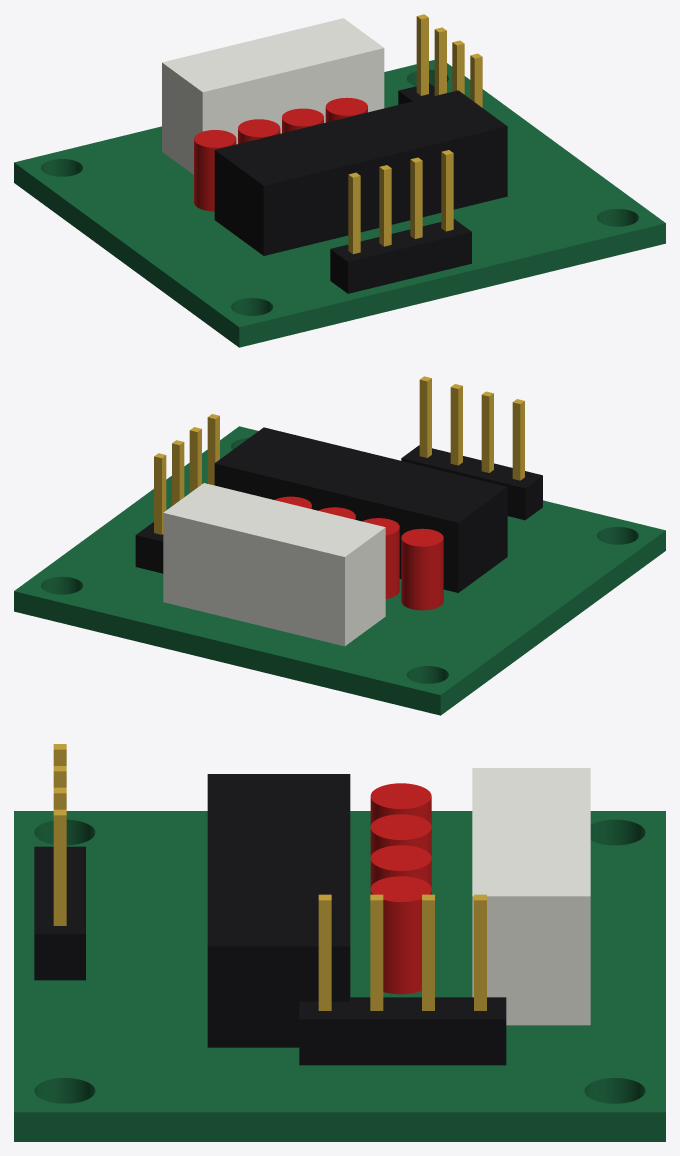
The model's file is driver_uln2003.glb.
The picture shows the model from 3 angles, top to bottom: view 1: azimuth 30°, elevation 25°; view 2: azimuth 150°, elevation 25°; view 3: azimuth 270°, elevation 25°; orthographic projection. The views are drawn at different scales.
Parts seen in each view (by area): view 1: pcb, ci, conector, nc_pinos, leds; view 2: pcb, conector, ci, nc_pinos, leds; view 3: pcb, ci, conector, leds, nc_pinos.
Part boxes in pixels (x1,y1,x2,y2): pcb: [14, 60, 665, 347]; ci: [214, 83, 507, 293]; conector: [162, 18, 384, 174]; nc_pinos: [348, 14, 482, 254]; leds: [194, 97, 367, 211]; pcb: [14, 426, 665, 715]; conector: [163, 483, 385, 646]; ci: [135, 427, 542, 592]; nc_pinos: [154, 376, 524, 534]; leds: [275, 496, 443, 610]; pcb: [14, 811, 665, 1141]; ci: [34, 774, 506, 1065]; conector: [472, 768, 590, 1025]; leds: [370, 783, 431, 994]; nc_pinos: [53, 744, 486, 1010].
Size of the model in its own units: 35 by 10.1 by 32.
